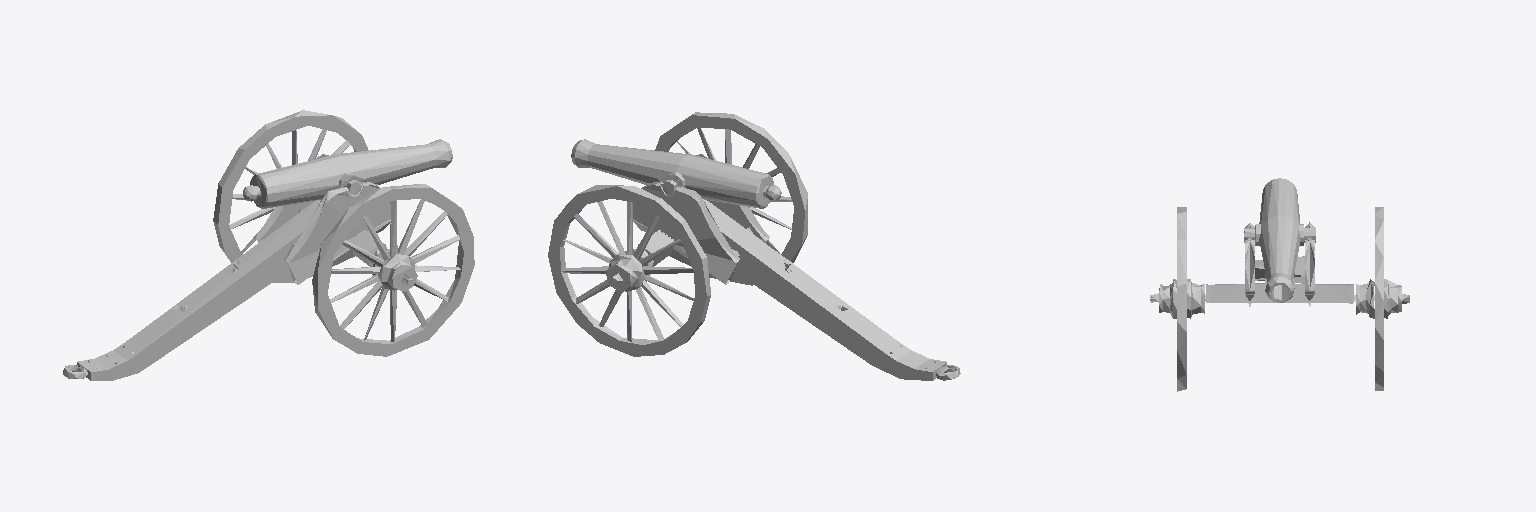
File: cannon_3_reduced.obj
3 renders of one model, left to right at view 1: azimuth 30°, elevation 25°; view 2: azimuth 150°, elevation 25°; view 3: azimuth 270°, elevation 25°, orthographic.
Parts seen in each view (by area): view 1: Wheel.L_Cylinder.002, Tongue_Cube.002, Barrel_Cylinder, Wheel.R_Cylinder.002, Vert, Vert.001_Vert; view 2: Wheel.R_Cylinder.002, Tongue_Cube.002, Barrel_Cylinder, Wheel.L_Cylinder.002, Vert.001_Vert, Vert; view 3: Barrel_Cylinder, Wheel.L_Cylinder.002, Wheel.R_Cylinder.002, WheelBase_Cube.003, Vert, Vert.001_Vert.
Boxes of the visible parts, x1=… form: Wheel.L_Cylinder.002: x1=312, y1=184, x2=474, y2=356; Tongue_Cube.002: x1=63, y1=200, x2=319, y2=380; Barrel_Cylinder: x1=243, y1=139, x2=452, y2=208; Wheel.R_Cylinder.002: x1=213, y1=110, x2=368, y2=282; Vert: x1=284, y1=176, x2=390, y2=284; Vert.001_Vert: x1=254, y1=154, x2=328, y2=242; Wheel.R_Cylinder.002: x1=548, y1=185, x2=710, y2=356; Tongue_Cube.002: x1=703, y1=199, x2=960, y2=380; Barrel_Cylinder: x1=571, y1=139, x2=781, y2=208; Wheel.L_Cylinder.002: x1=655, y1=112, x2=807, y2=285; Vert.001_Vert: x1=633, y1=176, x2=739, y2=284; Vert: x1=696, y1=154, x2=769, y2=243; Barrel_Cylinder: x1=1244, y1=178, x2=1315, y2=302; Wheel.L_Cylinder.002: x1=1159, y1=207, x2=1204, y2=391; Wheel.R_Cylinder.002: x1=1356, y1=207, x2=1401, y2=390; WheelBase_Cube.003: x1=1206, y1=283, x2=1353, y2=303; Vert: x1=1245, y1=223, x2=1254, y2=306; Vert.001_Vert: x1=1305, y1=222, x2=1314, y2=306.
Bounding box in the file's own units: 3.51 × 1.47 × 2.07.